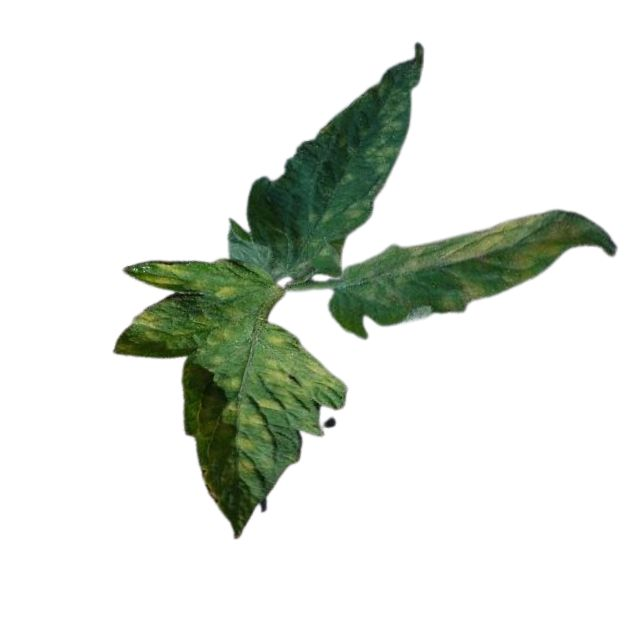Leaf_Mold: (113, 304, 345, 541), (398, 209, 585, 312), (358, 79, 410, 179), (141, 260, 204, 291)
